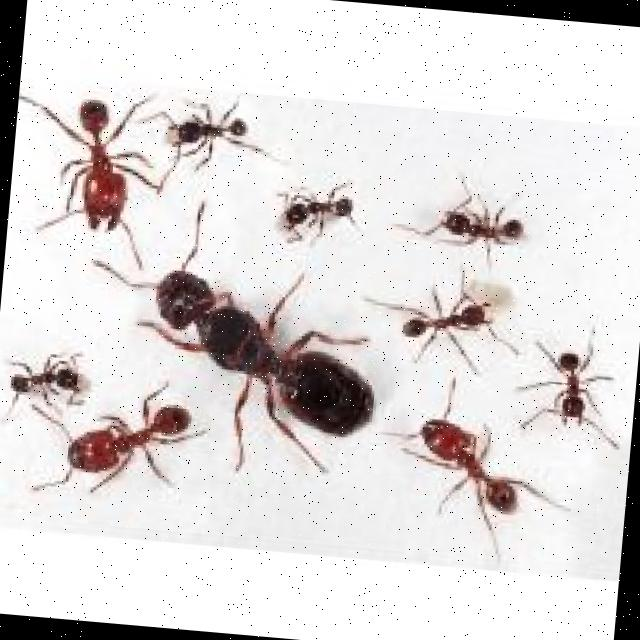Minor: (362, 256, 522, 375), (512, 318, 628, 446), (389, 168, 532, 270), (164, 87, 276, 176), (268, 169, 366, 252), (2, 344, 86, 424)
Queen: (82, 192, 387, 480)
Soldier: (374, 373, 576, 565), (5, 79, 165, 268), (24, 370, 210, 505)
